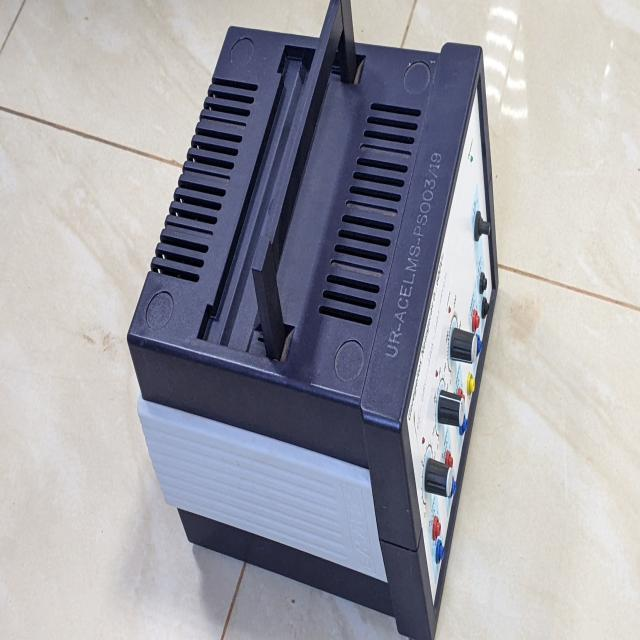Netzgerat Universal Power Supply: (115, 4, 500, 636)
